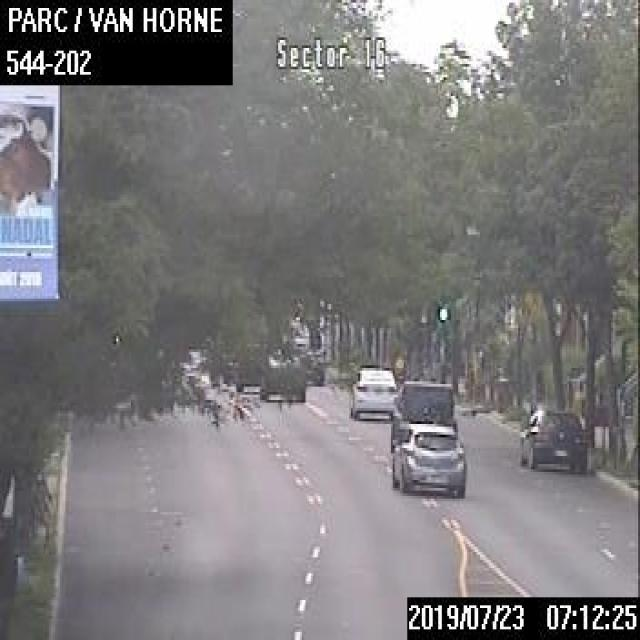vehicle: (391, 422, 464, 494), (390, 378, 456, 452), (518, 405, 586, 472), (348, 362, 398, 418), (260, 351, 306, 398)
